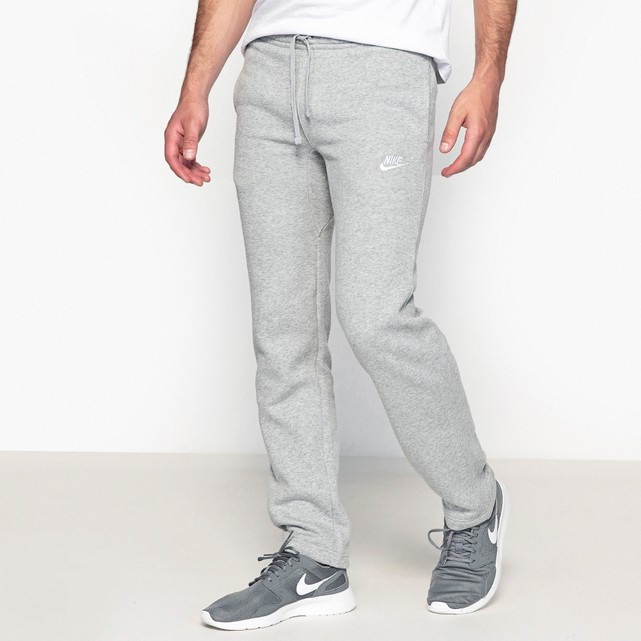feet: (177, 451, 512, 619)
